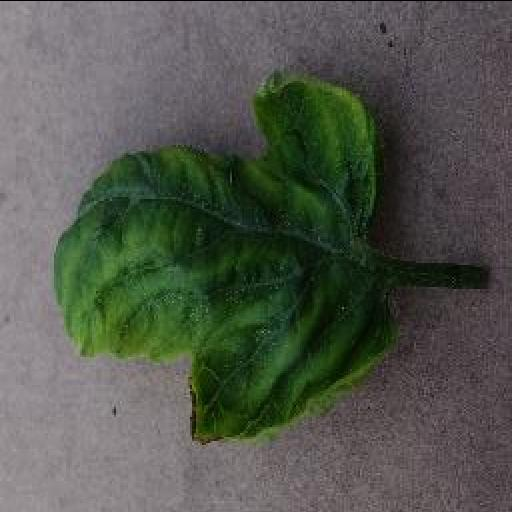disease_tomato: (50, 72, 408, 442)
